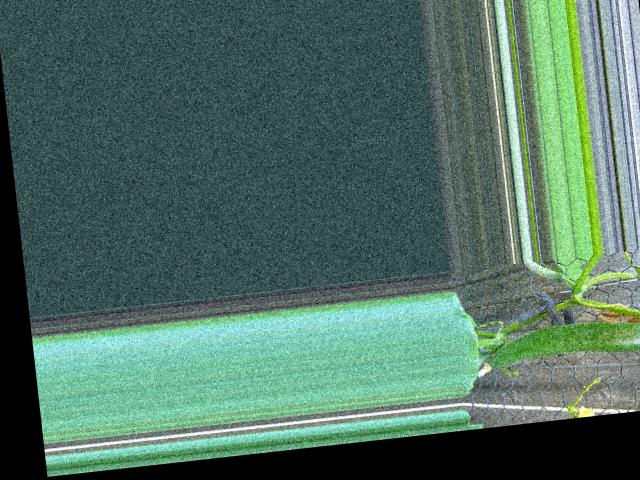cucumber: (487, 314, 640, 368)
